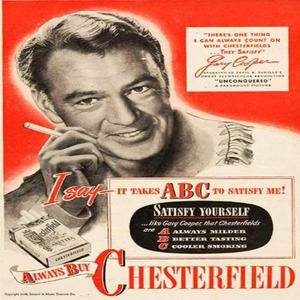cigarette: (20, 120, 68, 139)
